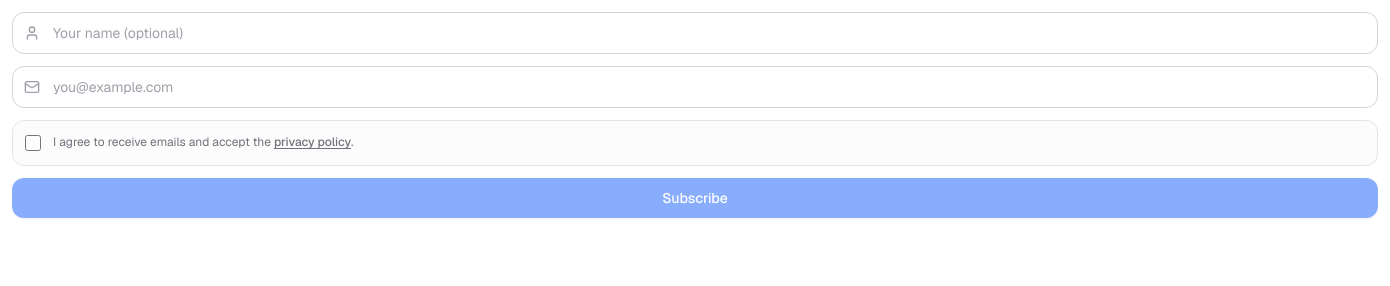
Test: NewsletterSignupForm › form submission › shows rate limited message on 429
In the field with placeholder "Your name (optional)": (695, 33) [12,12,1378,54], type "John"
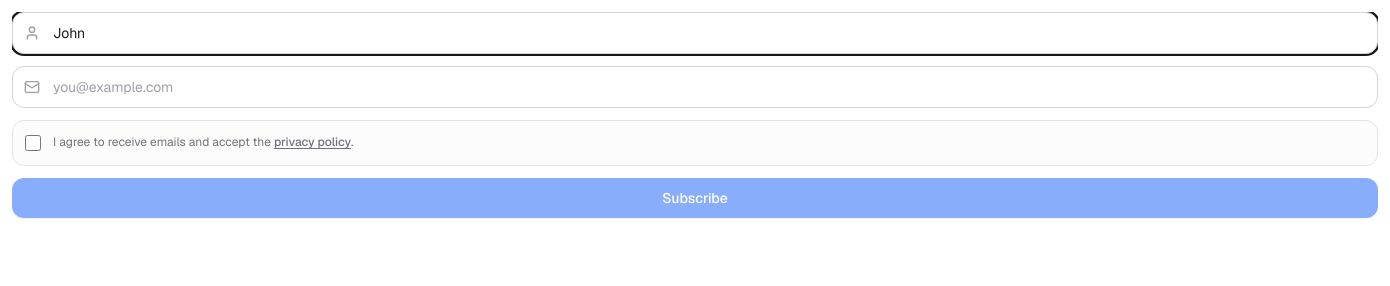
In the field with placeholder "you@example.com": (695, 87) [12,66,1378,108], type "john@example.com"
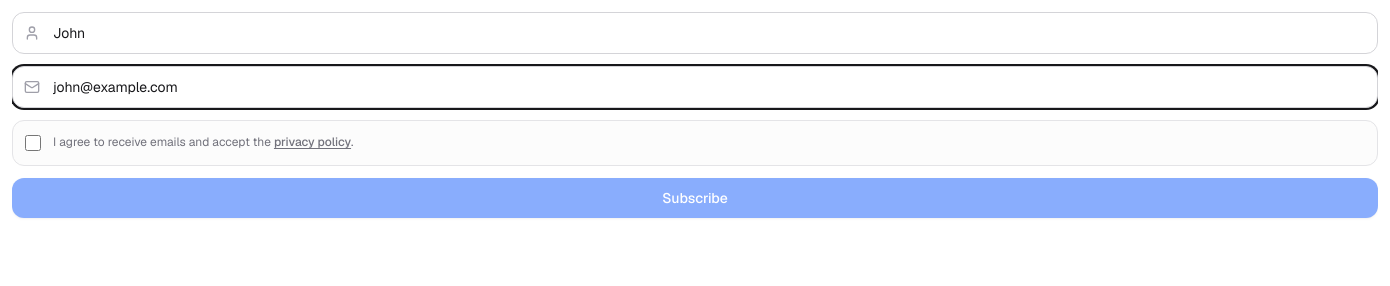
Click the checkbox: (33, 143) [25,135,41,151]
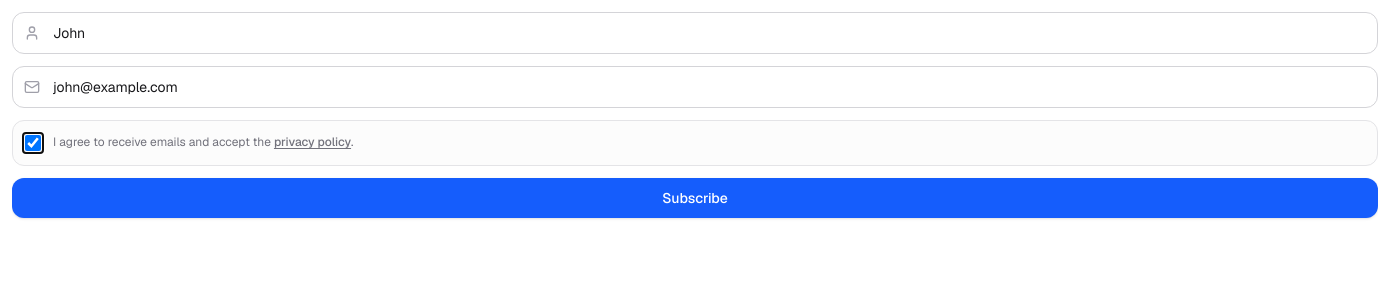
Click the button "Subscribe": (695, 198) [12,178,1378,218]
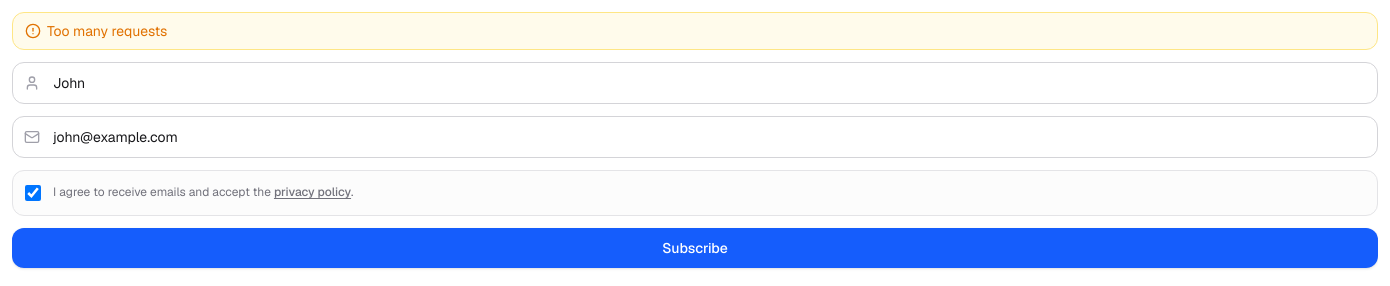
Result: the text "Too many requests" is shown at [12,12,1378,50]
